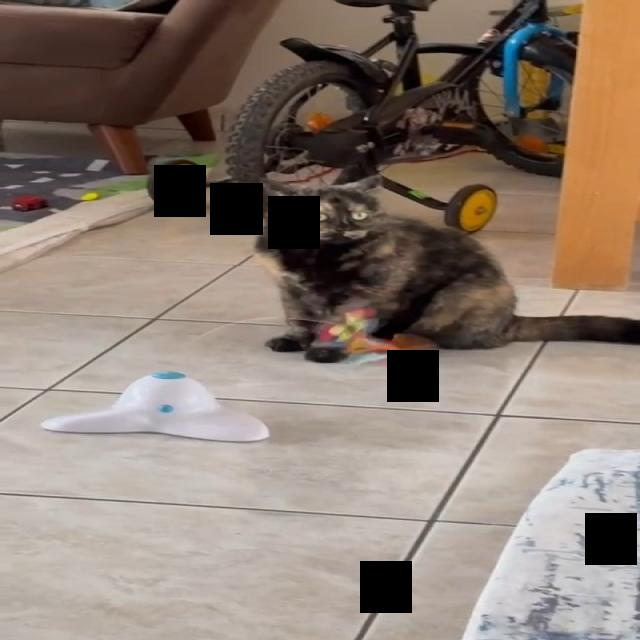authorized: (251, 174, 638, 356)
